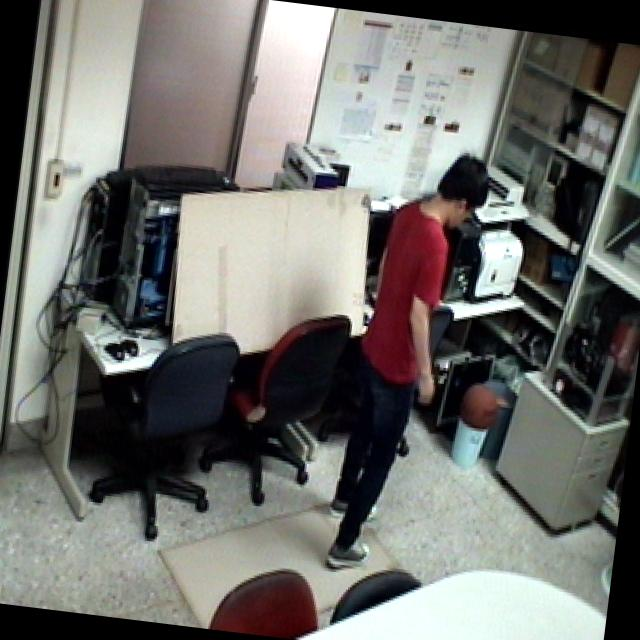stand: (314, 135, 503, 588)
